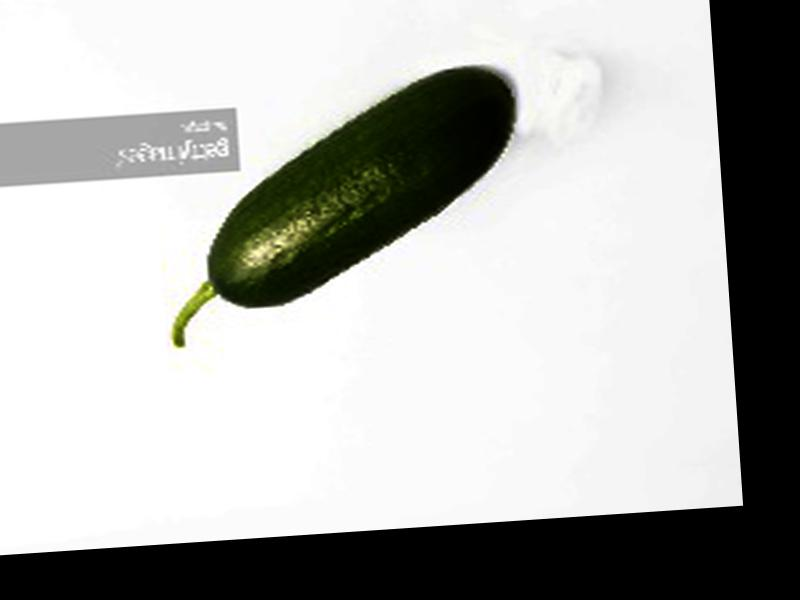Cucumber: (149, 62, 525, 344)
